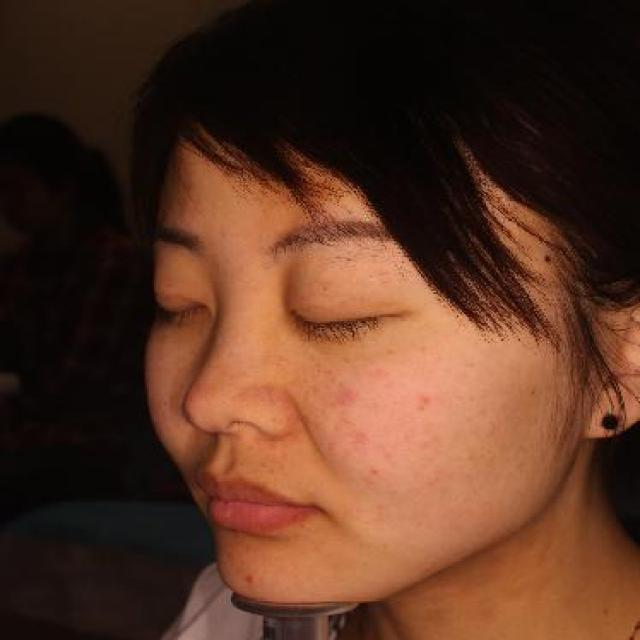dark spot: (327, 380, 364, 411), (236, 568, 260, 586), (416, 388, 438, 403), (365, 464, 385, 478)
